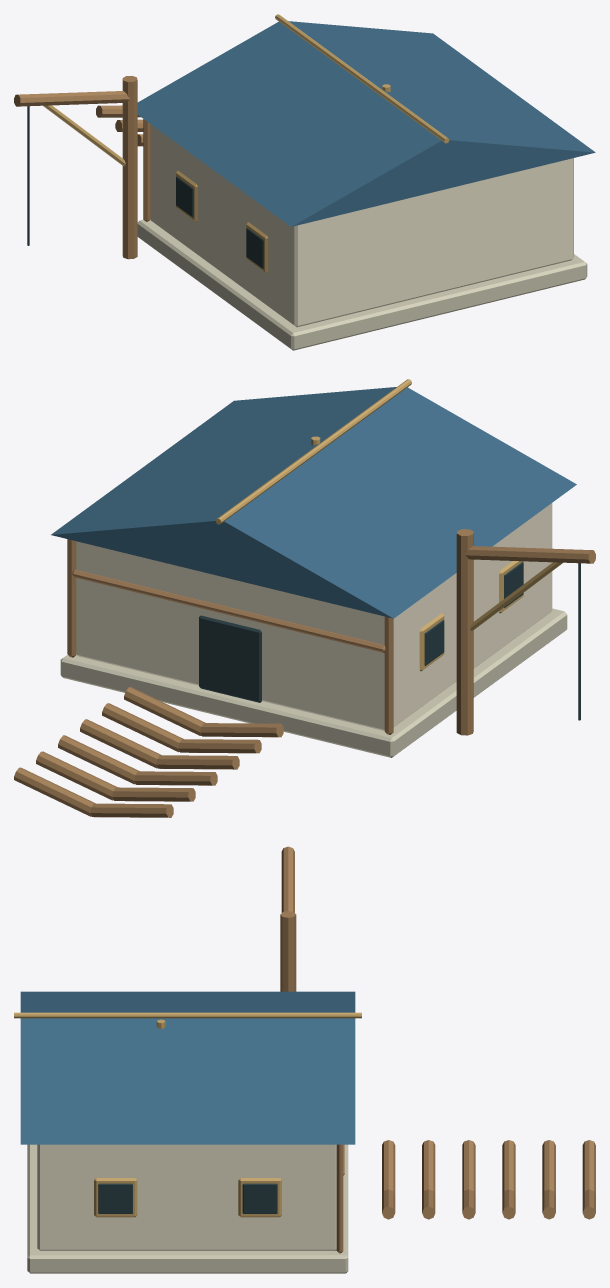
File: level_05.glb
The picture shows the model from 3 angles, top to bottom: view 1: azimuth 30°, elevation 25°; view 2: azimuth 150°, elevation 25°; view 3: azimuth 270°, elevation 25°; orthographic projection. The views are drawn at different scales.
Parts seen in each view (by area): view 1: shipyard — level 05; view 2: shipyard — level 05; view 3: shipyard — level 05.
Part boxes in pixels (x1,y1,x2,y2): shipyard — level 05: [14, 14, 595, 350]; shipyard — level 05: [14, 379, 595, 817]; shipyard — level 05: [14, 846, 595, 1273].
Size of the model in its own units: 7.97 by 3.42 by 8.7.
